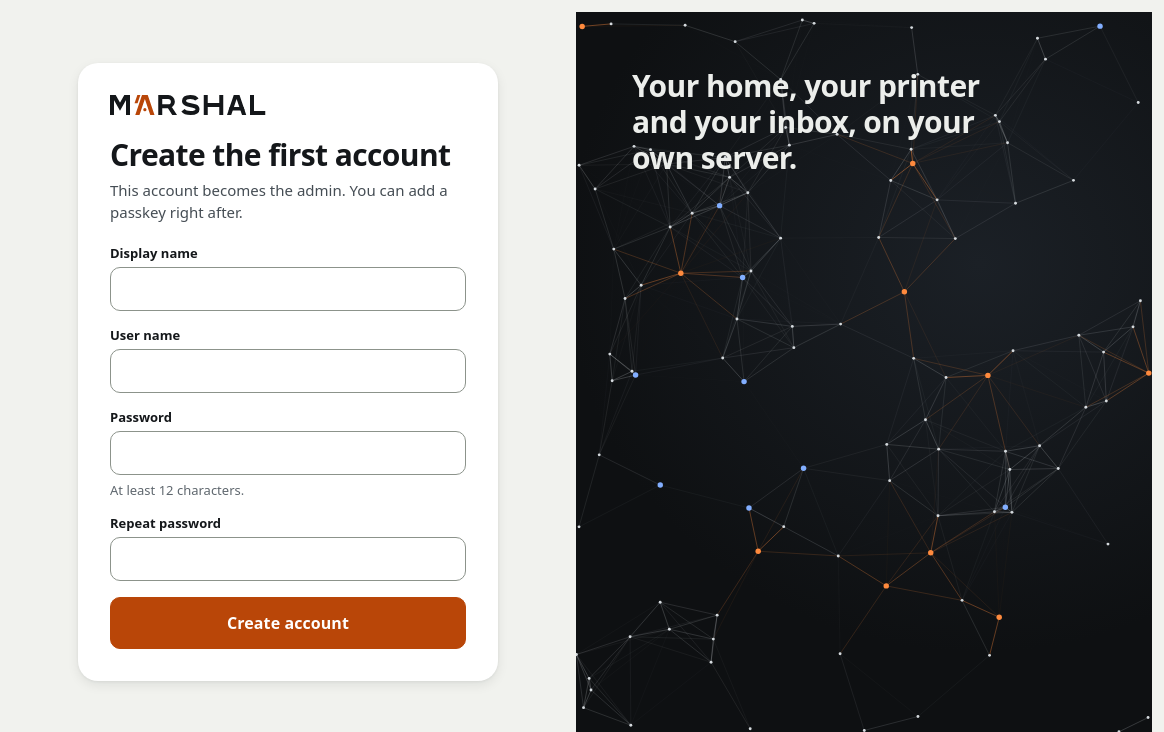
Test: SetupPage › does not send mismatched passwords
The image size is (1164, 732).
In the field named "userName": (288,371) [110, 349, 466, 393], type "lukas"
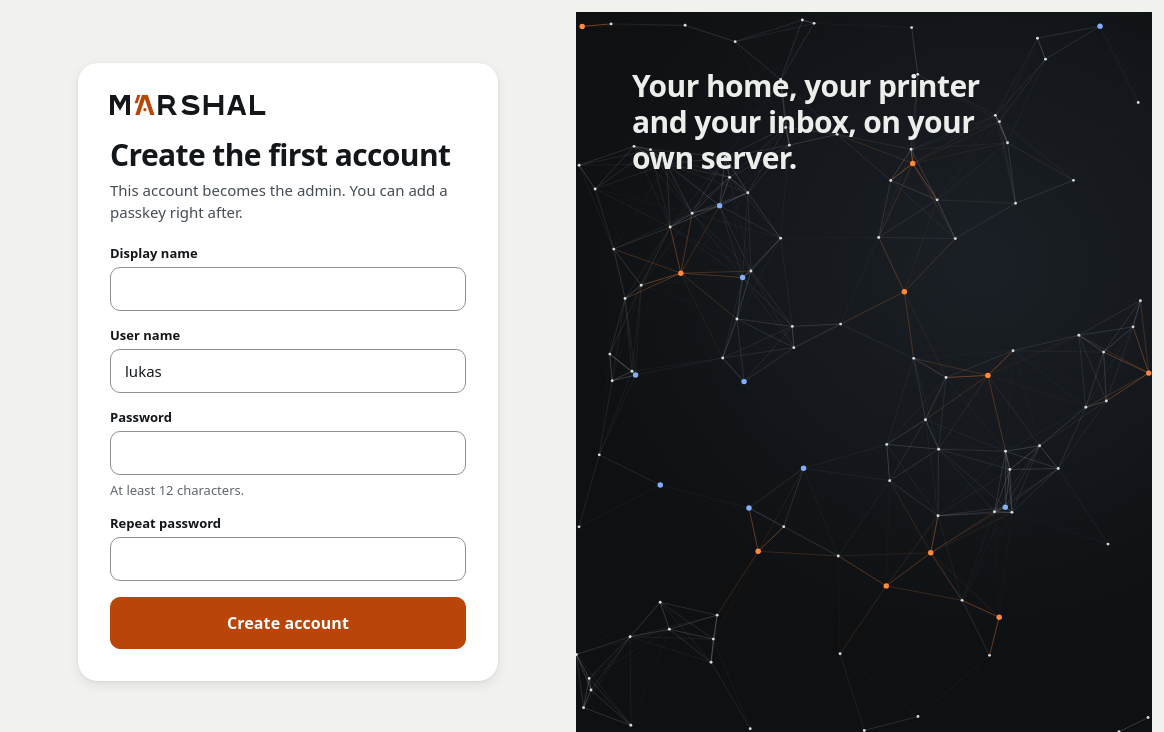
In the password field named "password": (288,453) [110, 431, 466, 475], type "correct horse battery staple"
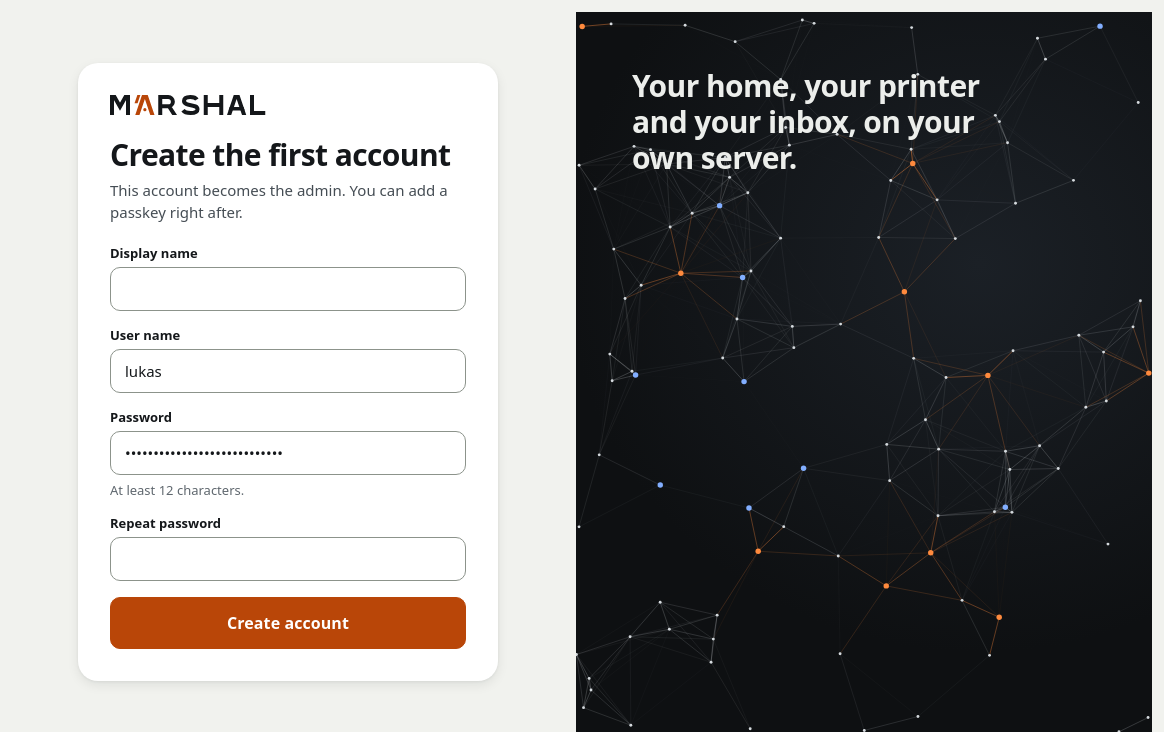
In the password field named "repeat": (288,559) [110, 537, 466, 581], type "correct horse battery stapler"
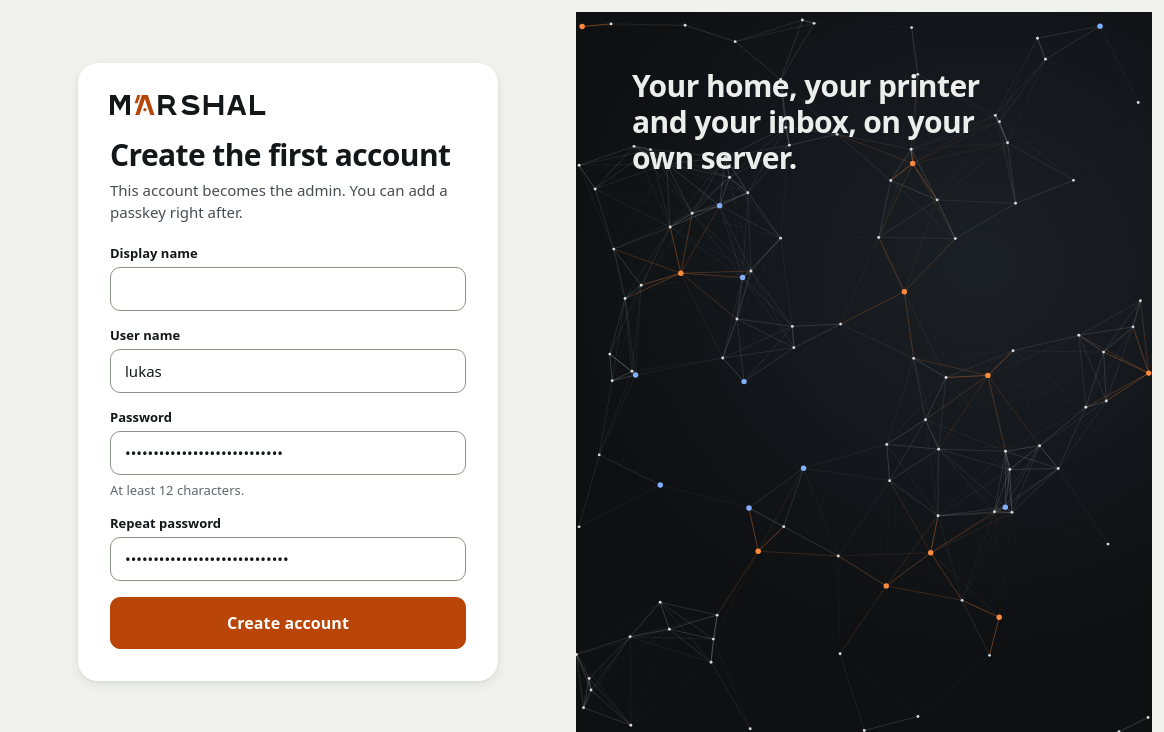
Submit the form, box [110, 245, 466, 649]
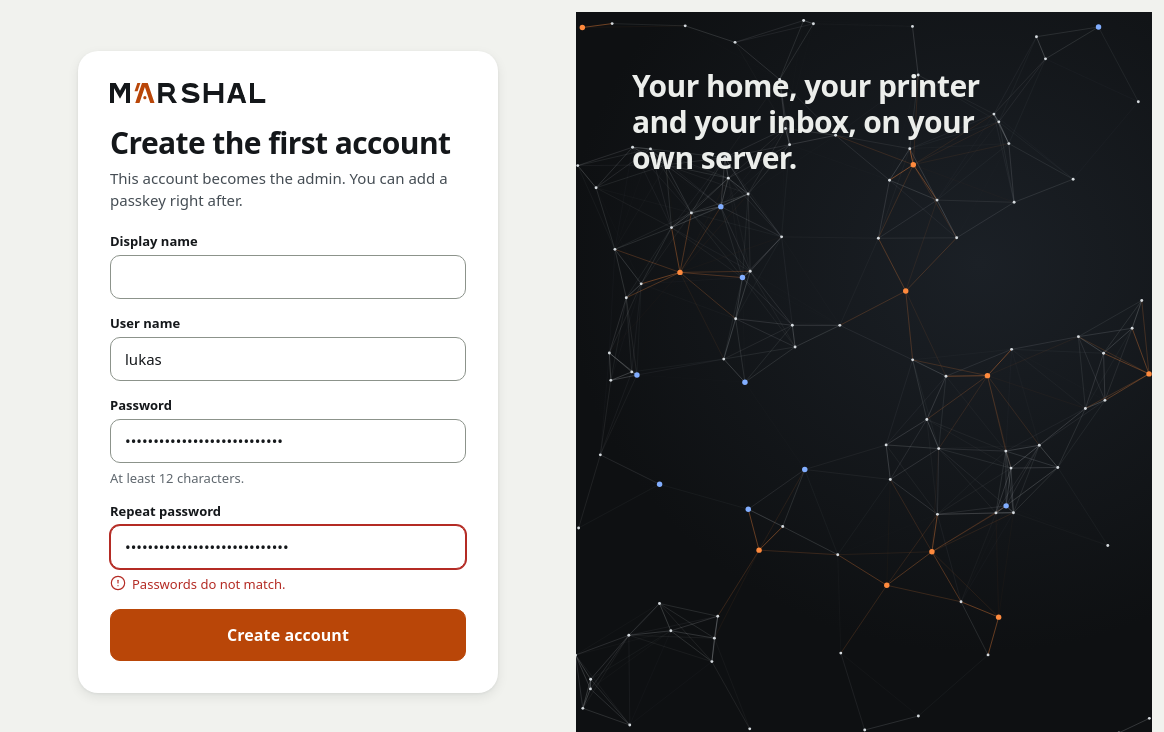
Check: the text "Passwords do not match" is shown, box [132, 575, 286, 593]
